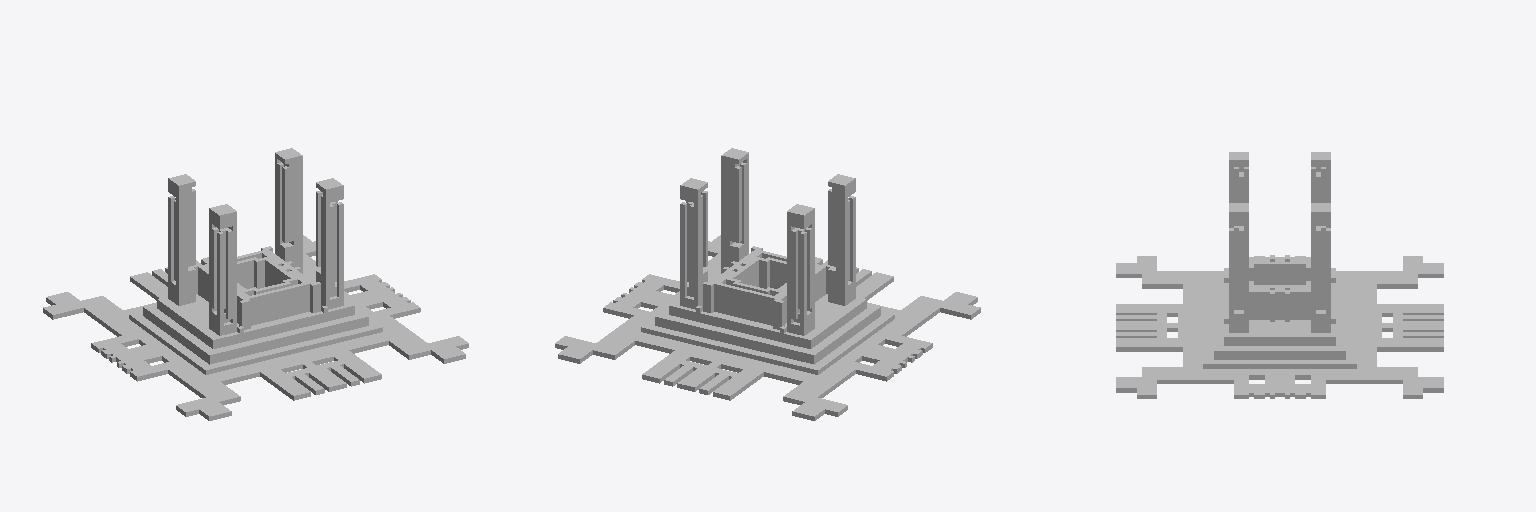
Rendered from altar.obj.
3 renders of one model, left to right at view 1: azimuth 30°, elevation 25°; view 2: azimuth 150°, elevation 25°; view 3: azimuth 270°, elevation 25°, orthographic.
Bounding box in the file's own units: 64 × 32 × 64.